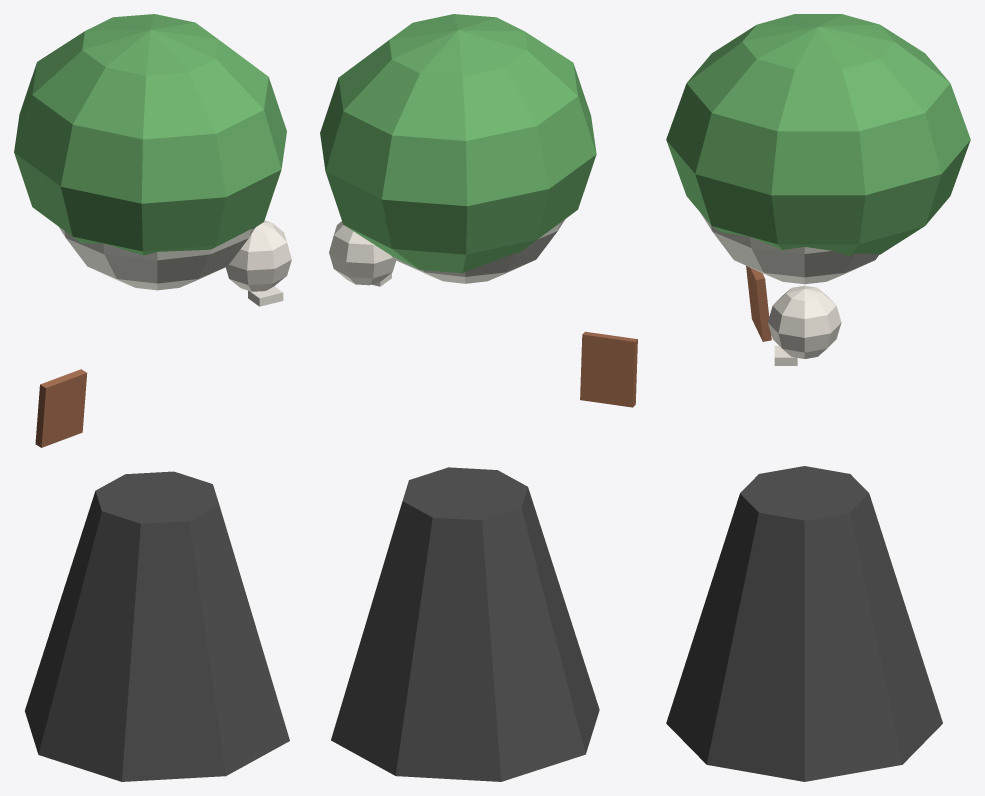
The model's file is necro.glb.
3 views of the same model, side by side, from view 1: azimuth 30°, elevation 25°; view 2: azimuth 150°, elevation 25°; view 3: azimuth 270°, elevation 25° (orthographic).
Visible parts, largest first — view 1: Body, Hood, Head, Skull, Book, SkullJaw; view 2: Body, Hood, Book, Skull, Head; view 3: Body, Hood, Head, Skull, Book.
Boxes of the visible parts, x1=… form: Body: x1=25, y1=471, x2=289, y2=781; Hood: x1=14, y1=14, x2=286, y2=255; Head: x1=58, y1=226, x2=255, y2=290; Skull: x1=225, y1=220, x2=291, y2=291; Book: x1=35, y1=369, x2=87, y2=447; SkullJaw: x1=248, y1=286, x2=283, y2=306; Body: x1=331, y1=467, x2=599, y2=781; Hood: x1=320, y1=14, x2=596, y2=273; Book: x1=580, y1=331, x2=637, y2=407; Skull: x1=329, y1=221, x2=395, y2=285; Head: x1=392, y1=219, x2=565, y2=283; Body: x1=666, y1=466, x2=942, y2=781; Hood: x1=666, y1=14, x2=970, y2=255; Head: x1=701, y1=213, x2=879, y2=284; Skull: x1=767, y1=285, x2=841, y2=358; Book: x1=746, y1=266, x2=771, y2=341.
Bounding box in the file's own units: 0.6923 × 1.67 × 0.66.
